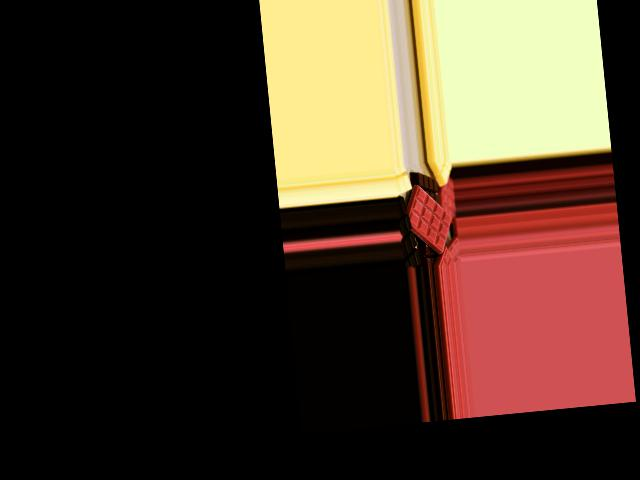chocolate: (395, 182, 457, 257)
